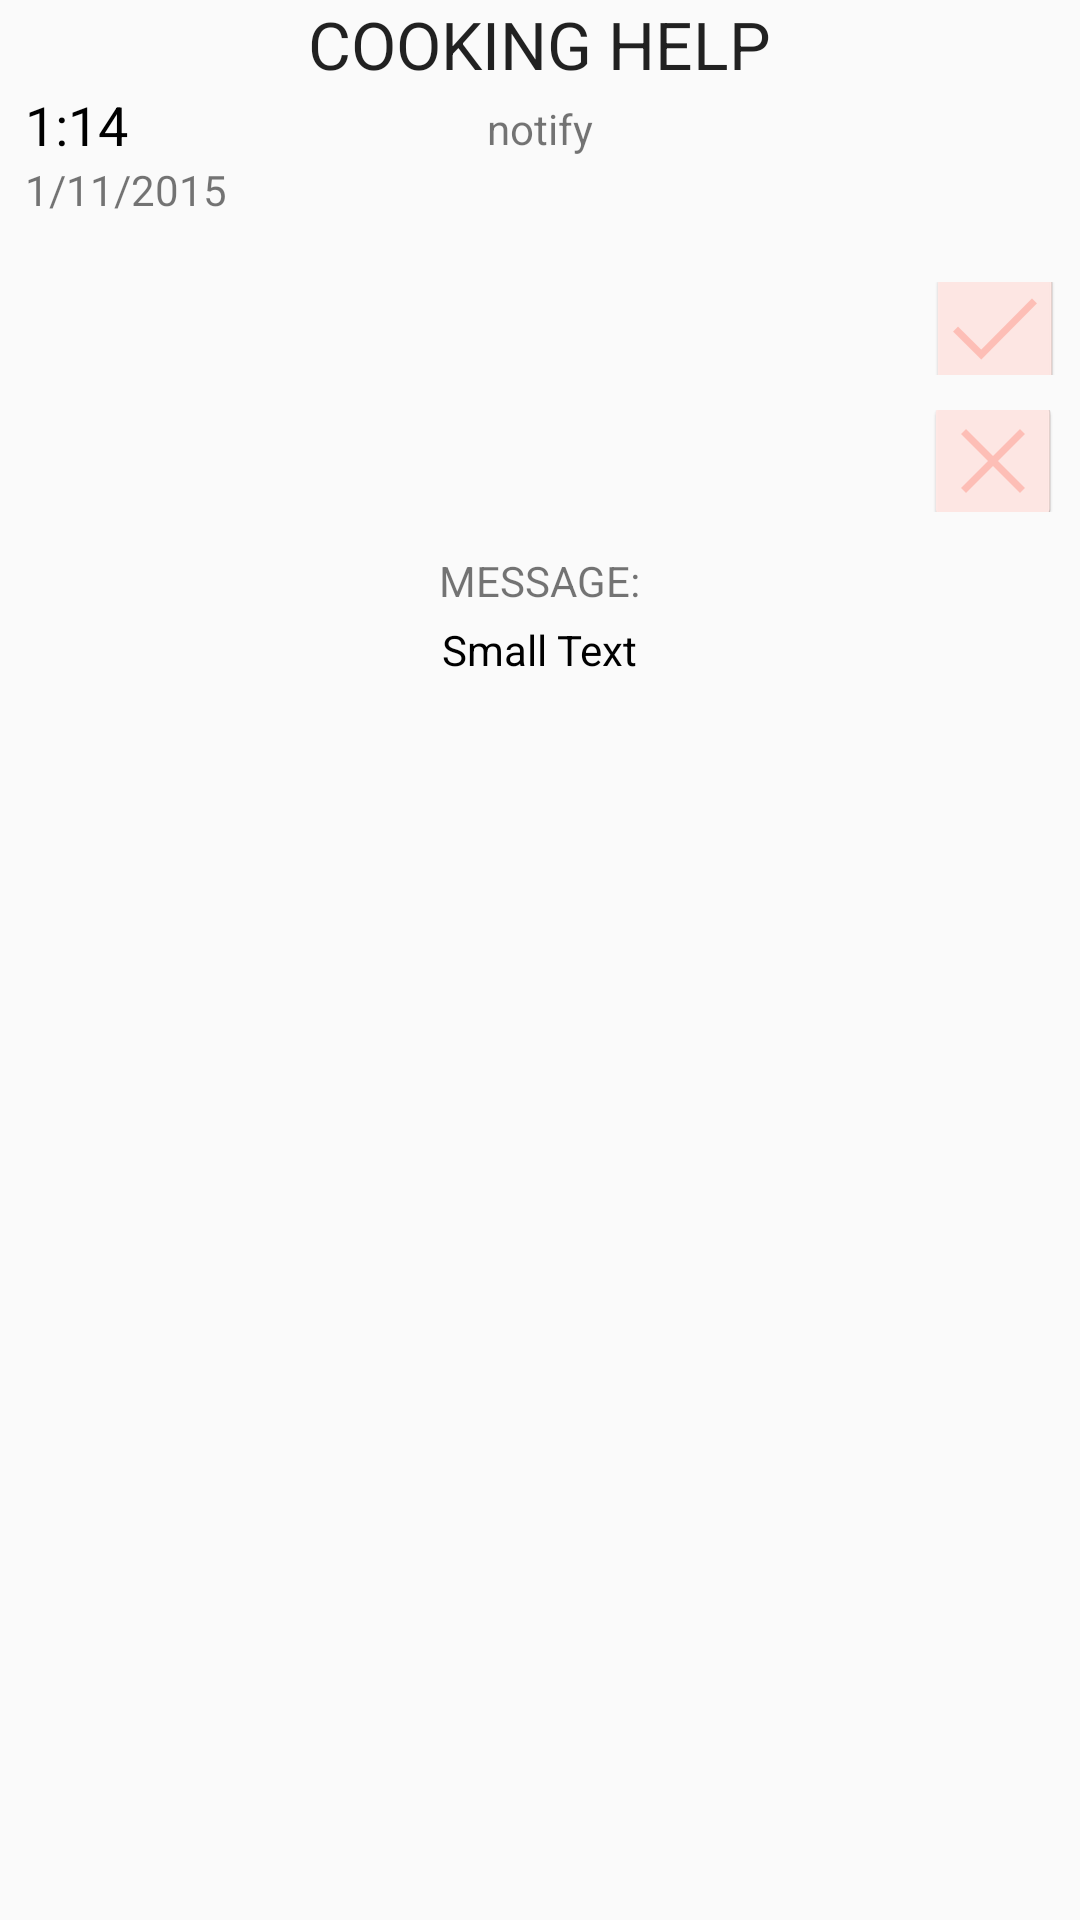

Icons on this 1080px x 1920px Android screen, each with the point to tap as (x,y):
accept: (995,328)
ignore: (993,461)
